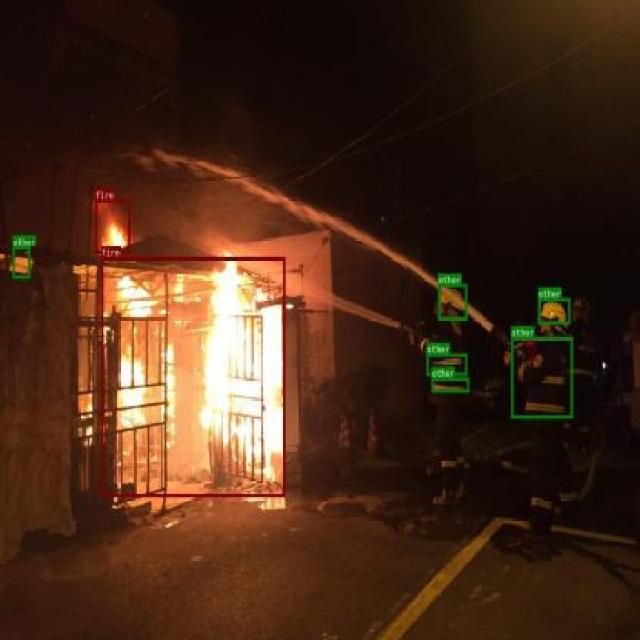Fire: (100, 256, 286, 496), (94, 198, 130, 252)
